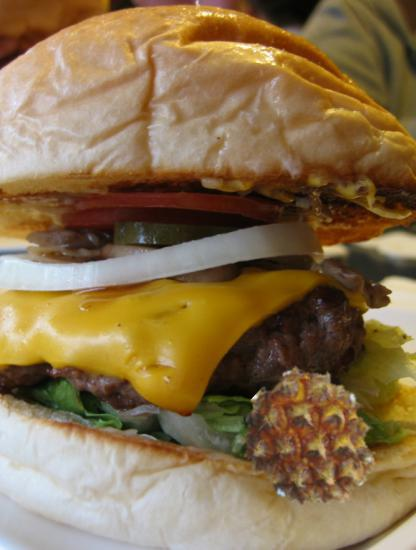Pineapple: (239, 369, 382, 512)
